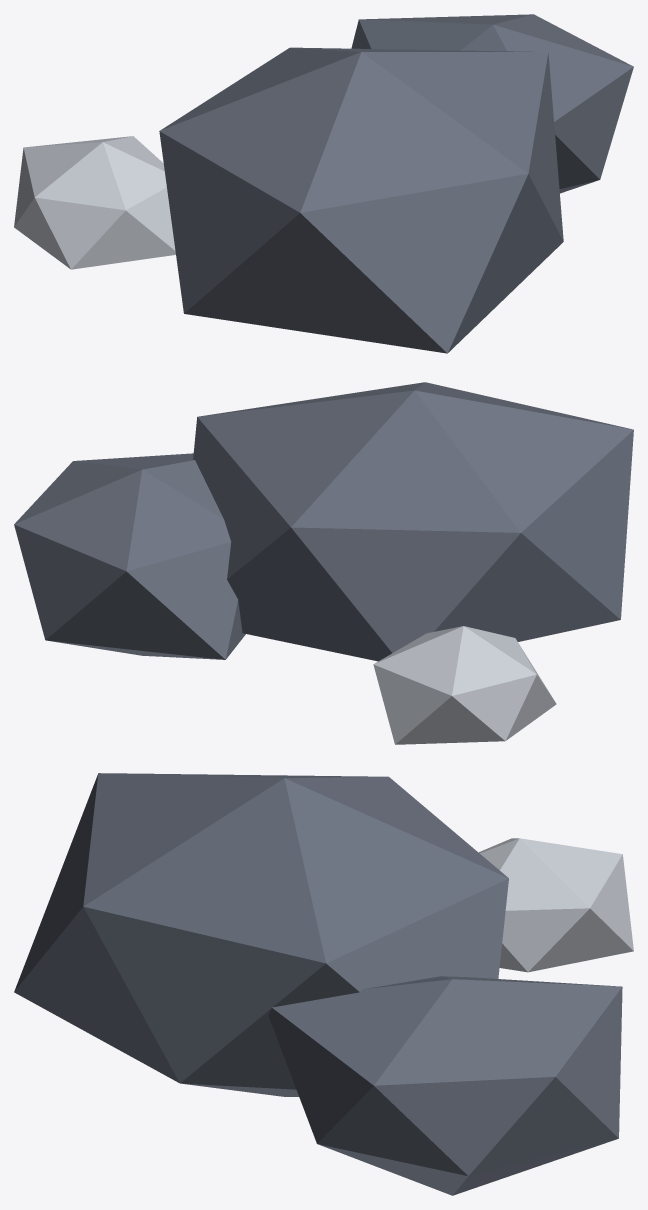
The model's file is rock_cluster.glb.
The picture shows the model from 3 angles, top to bottom: view 1: azimuth 30°, elevation 25°; view 2: azimuth 150°, elevation 25°; view 3: azimuth 270°, elevation 25°; orthographic projection. The views are drawn at different scales.
Visible parts, largest first — view 1: RockBig, RockSmall, RockMid; view 2: RockBig, RockMid, RockSmall; view 3: RockBig, RockMid, RockSmall.
Boxes of the visible parts, box(x1,y1,x2,y2) form: RockBig: box(159, 47, 563, 353); RockSmall: box(14, 136, 175, 269); RockMid: box(351, 14, 633, 193); RockBig: box(193, 382, 633, 661); RockMid: box(14, 453, 245, 659); RockSmall: box(373, 626, 556, 744); RockBig: box(14, 773, 508, 1096); RockMid: box(268, 976, 622, 1195); RockSmall: box(478, 838, 633, 972).
Bounding box in the file's own units: 2.1 × 1.05 × 1.84.
